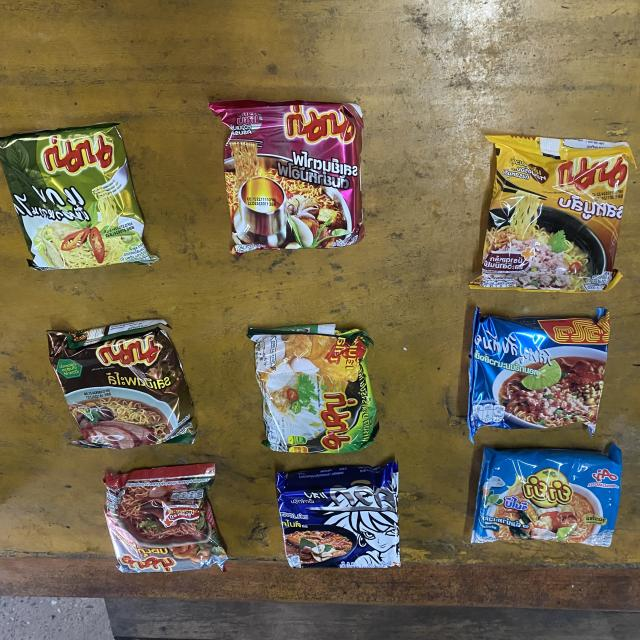plastik: (470, 136, 635, 293), (209, 100, 364, 256), (0, 124, 158, 271), (47, 319, 196, 450), (468, 308, 609, 442), (247, 325, 378, 453), (472, 444, 622, 547), (104, 464, 228, 572), (276, 462, 400, 568)
